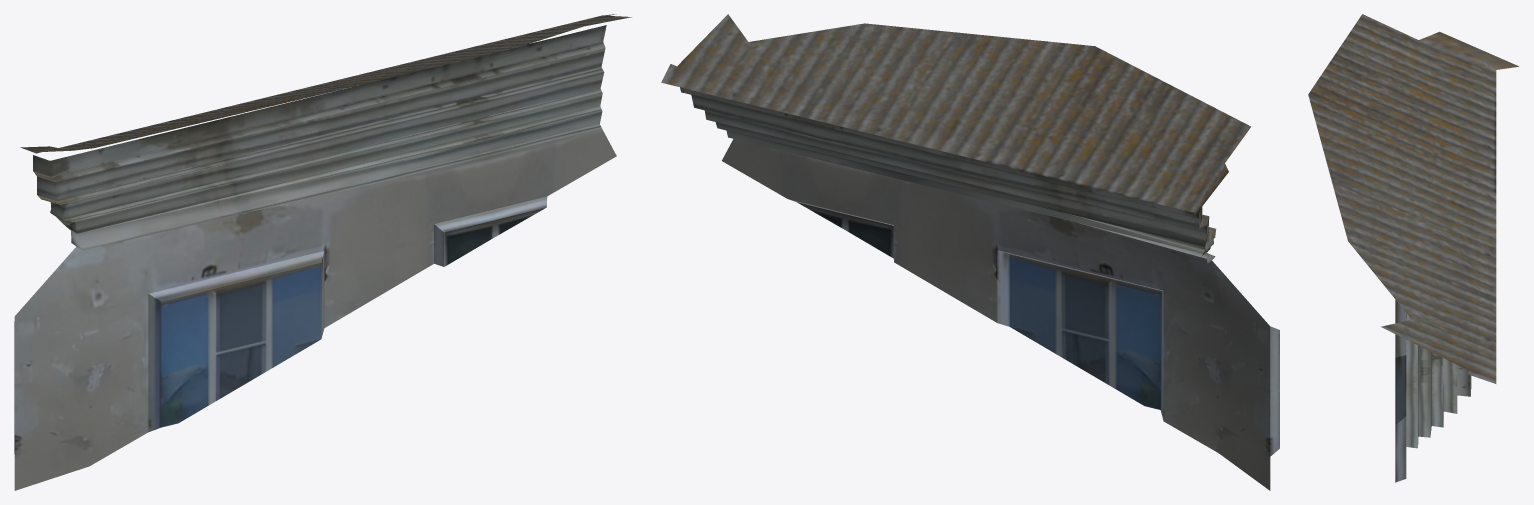
The model's file is House_03_12.fbx.
3 views of the same model, side by side, from view 1: azimuth 30°, elevation 25°; view 2: azimuth 150°, elevation 25°; view 3: azimuth 270°, elevation 25° (orthographic). The views are drawn at different scales.
Parts seen in each view (by area): view 1: Дом2.012; view 2: Дом2.012; view 3: Дом2.012.
Boxes of the visible parts, x1=… form: Дом2.012: x1=14, y1=14, x2=631, y2=490; Дом2.012: x1=661, y1=14, x2=1279, y2=490; Дом2.012: x1=1308, y1=14, x2=1518, y2=482.
Bounding box in the file's own units: 13.66 × 7.82 × 3.52.
Materials: 1 (1 with a texture image).
